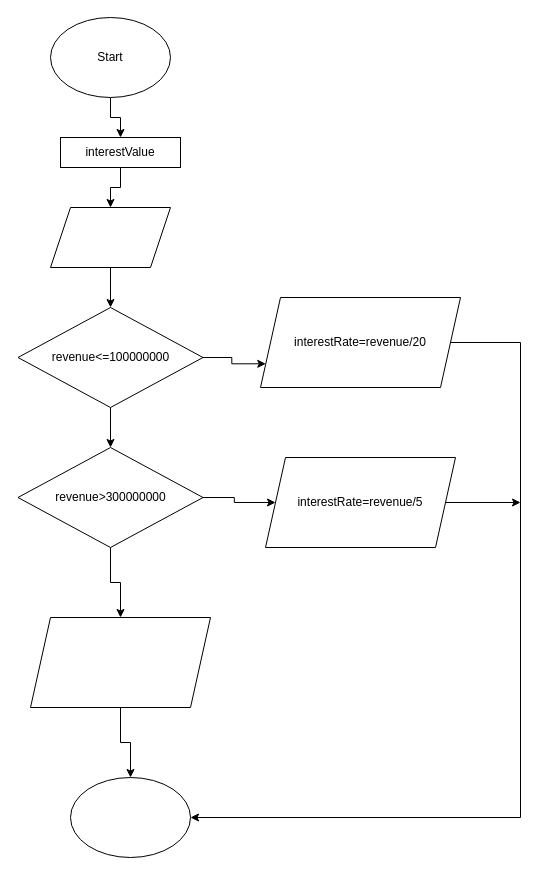
Image size: 546x875. Some labels were removed from this diagram. The shapes that lost their labels are listed below. From the top down, each one's centre as x and y in pixels, then its label:
point 110,237: revenue
point 120,662: interestRate=revenue/10
point 130,817: End
